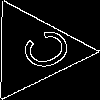C: (9, 25, 75, 79)
